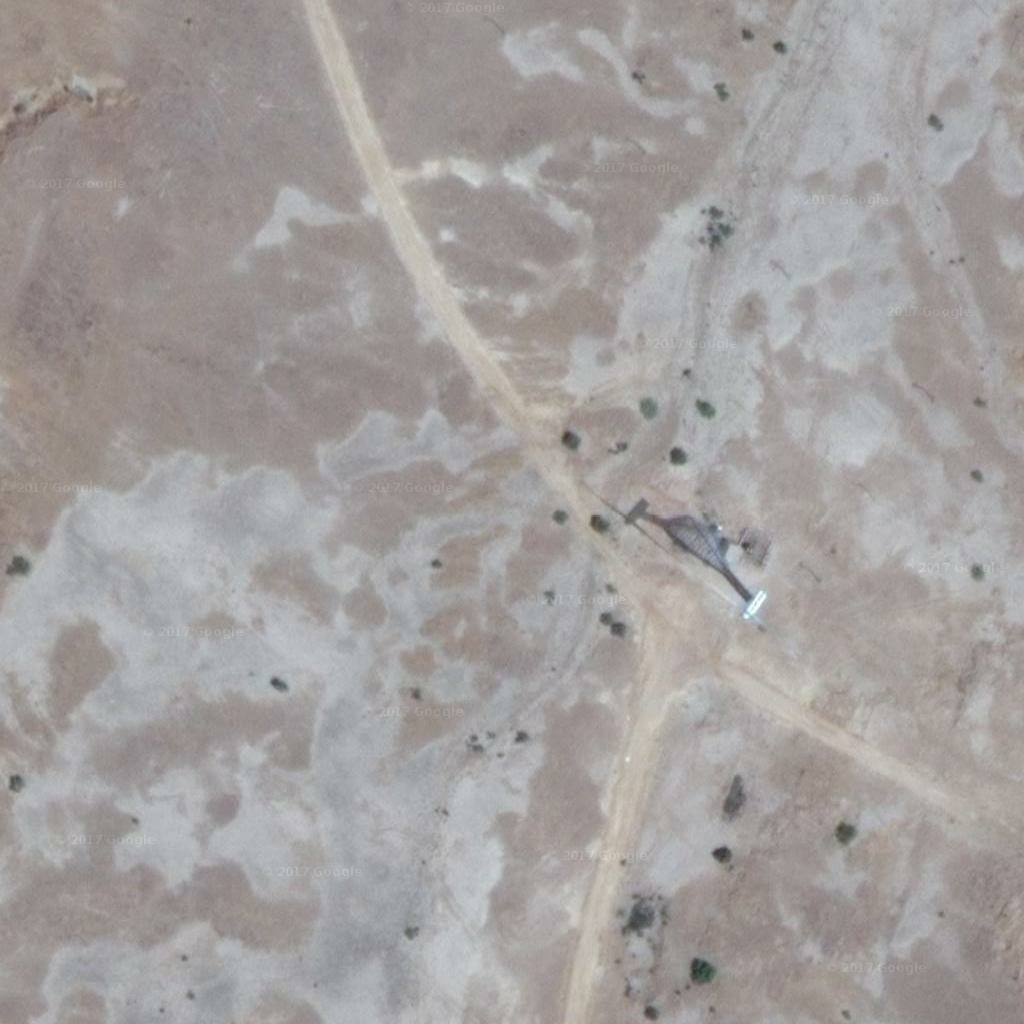Windmill: (585, 475, 750, 600)
